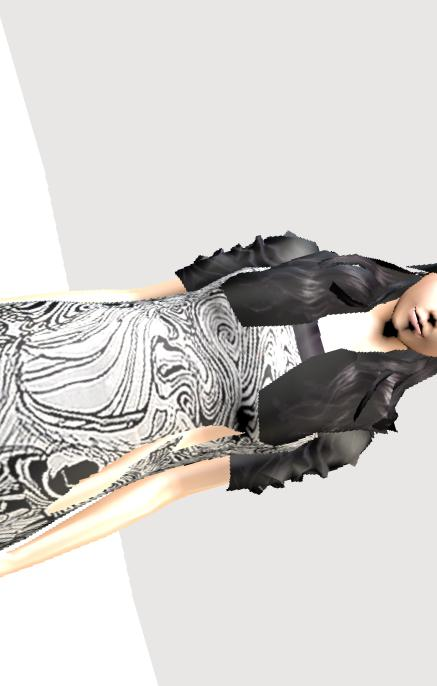clip: (171, 422, 244, 454)
